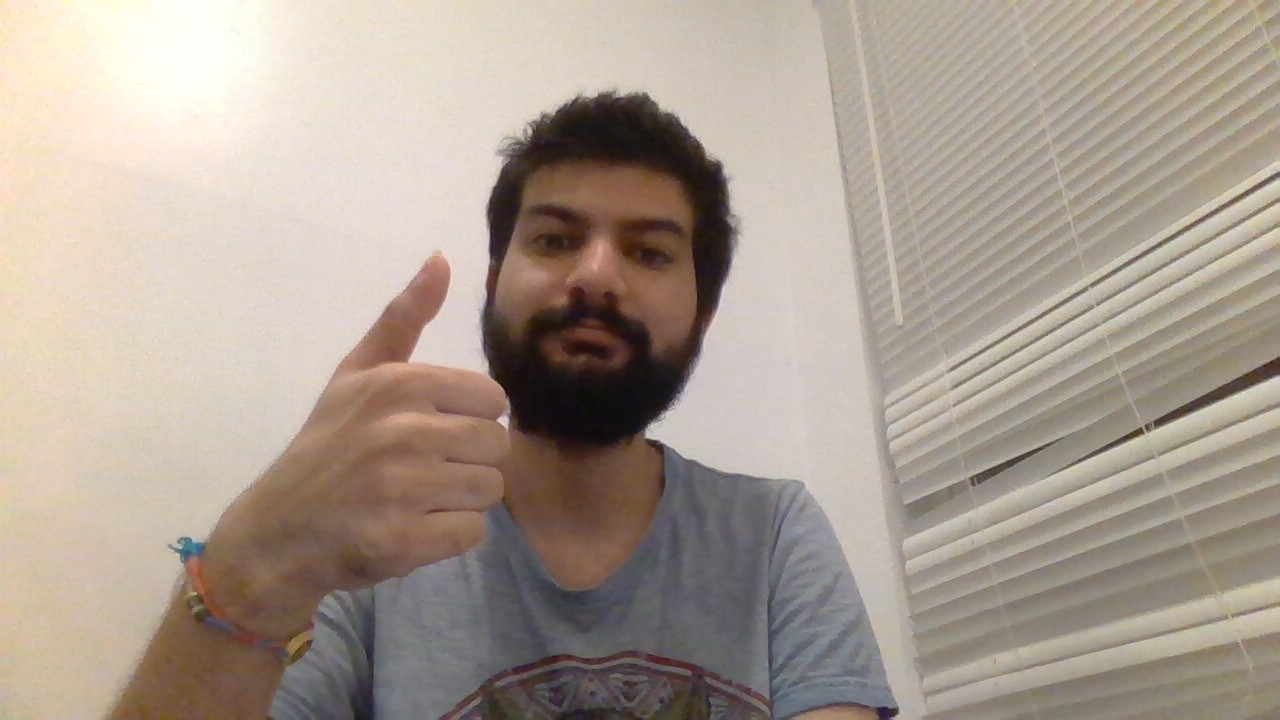up: (331, 244, 511, 589)
